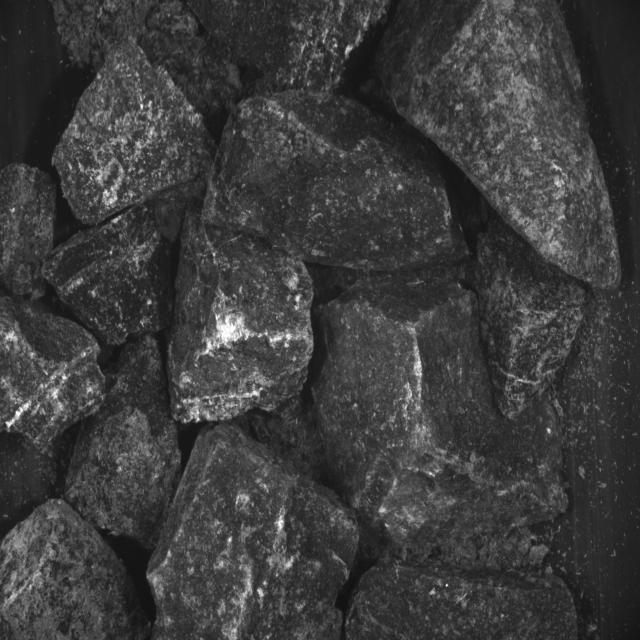Stones: (54, 42, 215, 226), (1, 164, 57, 300)
